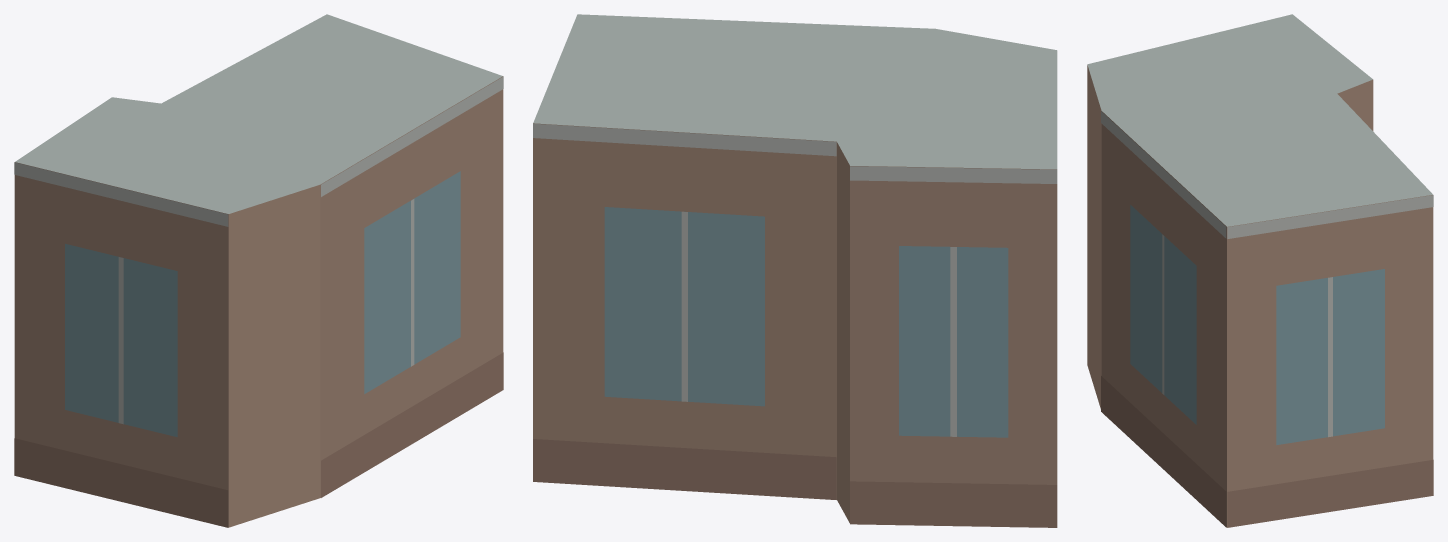
Rendered from survey-upis-32598401.glb.
3 renders of one model, left to right at view 1: azimuth 30°, elevation 25°; view 2: azimuth 150°, elevation 25°; view 3: azimuth 270°, elevation 25°, orthographic. The views are drawn at different scales.
Parts seen in each view (by area): view 1: survey-upis-32598401.tmp; view 2: survey-upis-32598401.tmp; view 3: survey-upis-32598401.tmp.
Boxes of the visible parts, left/top/right/bottom form: survey-upis-32598401.tmp: left=14, top=14, right=503, bottom=527; survey-upis-32598401.tmp: left=533, top=14, right=1057, bottom=527; survey-upis-32598401.tmp: left=1087, top=14, right=1433, bottom=527.
Bounding box in the file's own units: 4.64 × 3.05 × 3.19.
